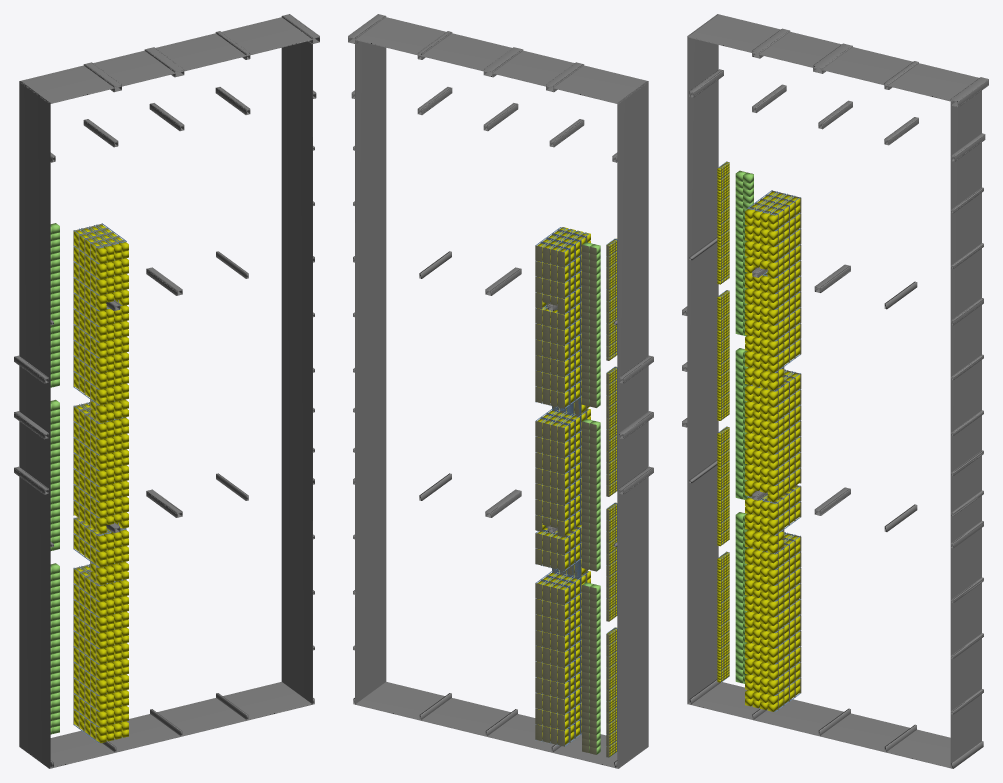
3 views of the same model, side by side, from view 1: azimuth 30°, elevation 25°; view 2: azimuth 150°, elevation 25°; view 3: azimuth 330°, elevation 25° (orthographic).
Bounding box in the file's own units: 47641 × 110113 × 9000.
